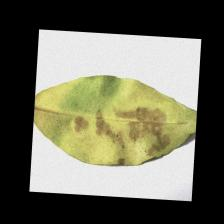black spot: (69, 102, 172, 154)
